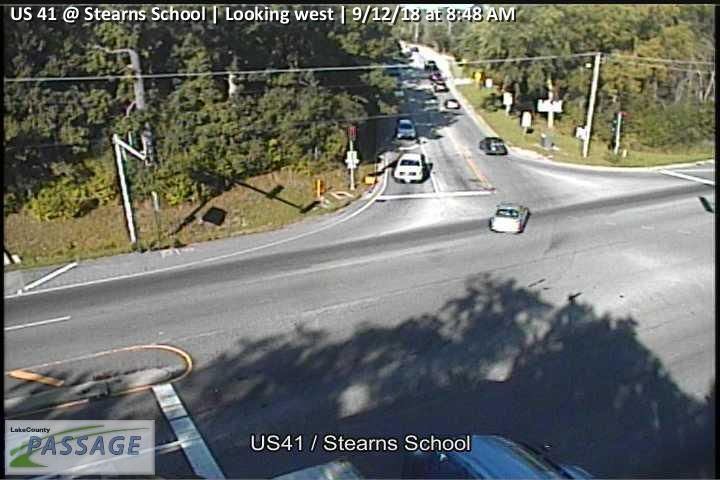Sedan: (488, 200, 529, 234), (393, 152, 426, 181), (477, 137, 509, 154), (397, 116, 416, 139)
